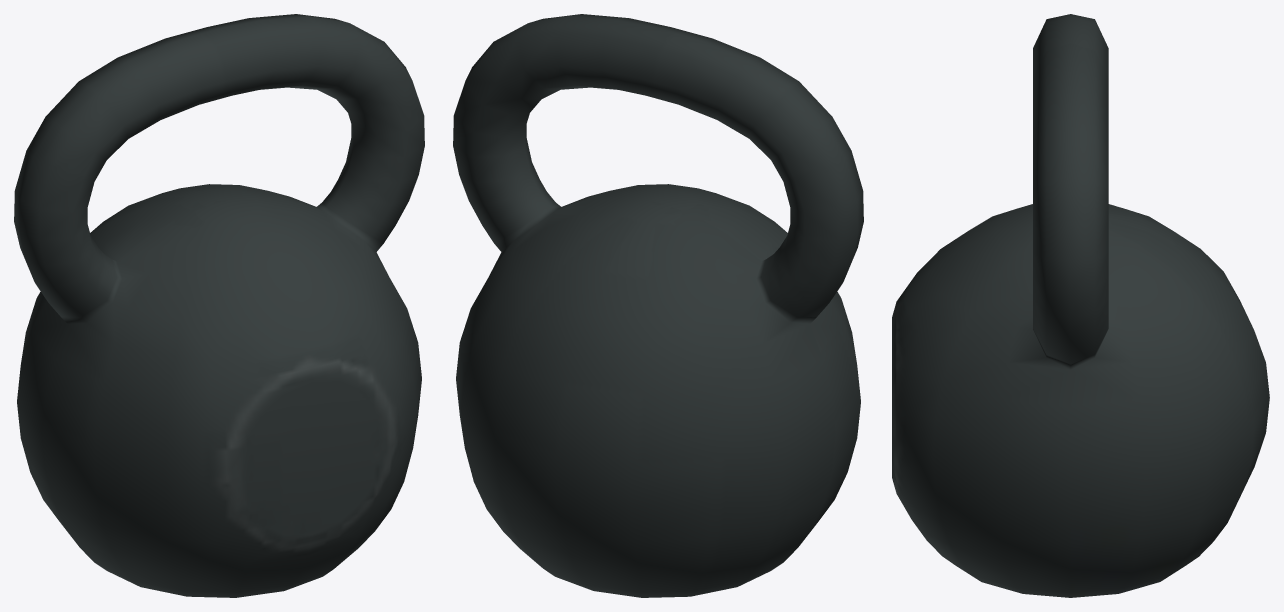
The model's file is kettlebell.glb.
3 renders of one model, left to right at view 1: azimuth 30°, elevation 25°; view 2: azimuth 150°, elevation 25°; view 3: azimuth 270°, elevation 25°, orthographic. The views are drawn at different scales.
Size of the model in its own units: 4.6 by 5.72 by 3.93.
1 material, 1 textured.
